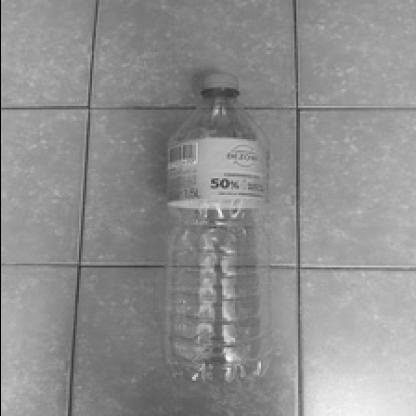plastic_bottles: (165, 72, 271, 384)
